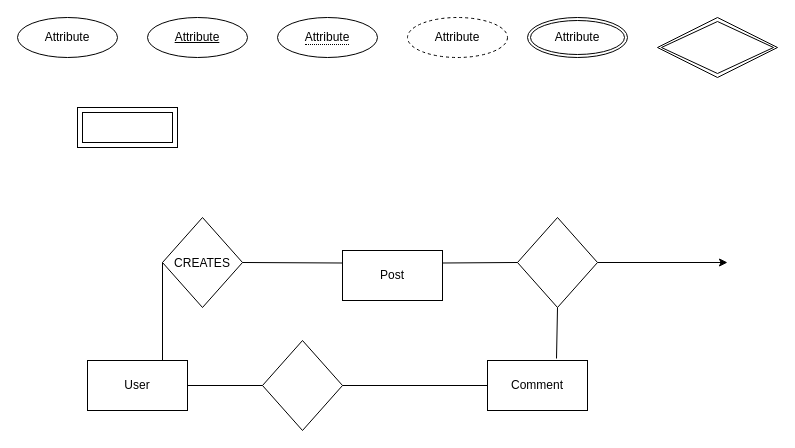
The diagram is 795 pixels wide and 448 high, and some of its shapes have lost their labels. The centre of each missing label's shape, as x and y in pixels:
"Entity" belongs at pixel 127 127.
"HAS" belongs at pixel 557 262.
"Relationship" belongs at pixel 717 47.
"WRITES" belongs at pixel 302 385.
